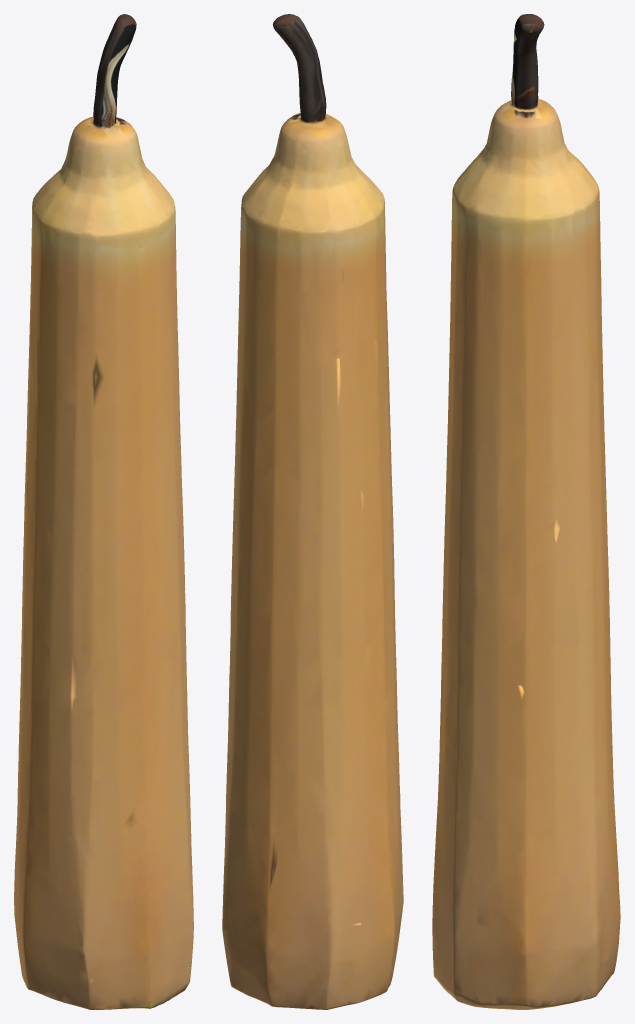
File: Meshy_AI_Solitary_Candle_0327215743_texture.glb
The picture shows the model from 3 angles, left to right: view 1: azimuth 30°, elevation 25°; view 2: azimuth 150°, elevation 25°; view 3: azimuth 270°, elevation 25°; orthographic projection. The views are drawn at different scales.
Size of the model in its own units: 0.3534 by 2 by 0.35.
Materials: 1 (1 with a texture image).
